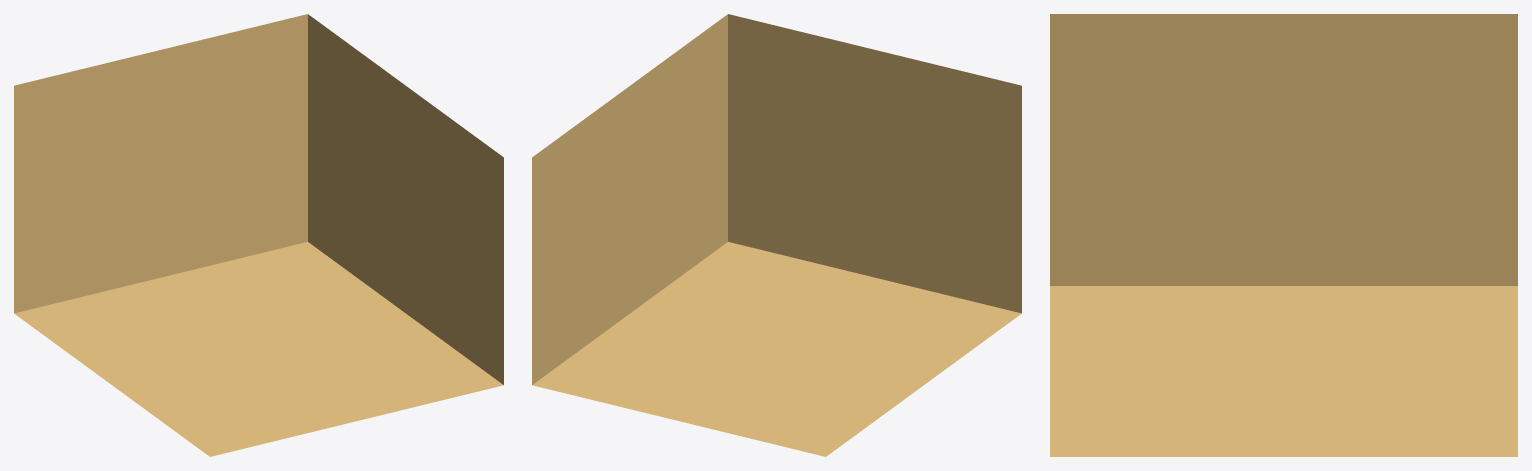
Rendered from drone-planning-navagraha-grid-006.glb.
The picture shows the model from 3 angles, left to right: view 1: azimuth 30°, elevation 25°; view 2: azimuth 150°, elevation 25°; view 3: azimuth 270°, elevation 25°; orthographic projection. The views are drawn at different scales.
Parts seen in each view (by area): view 1: Navagraha Grid Drone Planning; view 2: Navagraha Grid Drone Planning; view 3: Navagraha Grid Drone Planning.
Part boxes in pixels (box(x1,y1,x2,y2)): Navagraha Grid Drone Planning: box(14, 14, 503, 456); Navagraha Grid Drone Planning: box(532, 14, 1021, 456); Navagraha Grid Drone Planning: box(1050, 14, 1517, 456).
Bounding box in the file's own units: 1.35 × 1 × 1.56.
